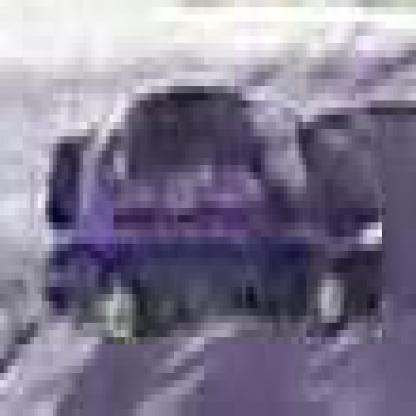car: (39, 102, 383, 346)
